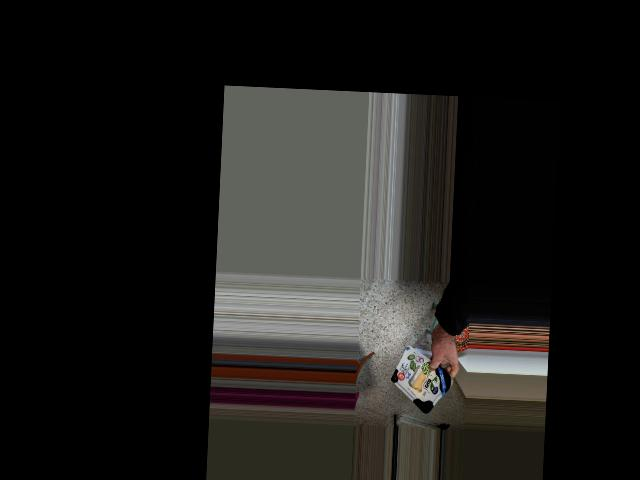cheese: (383, 349, 455, 413)
